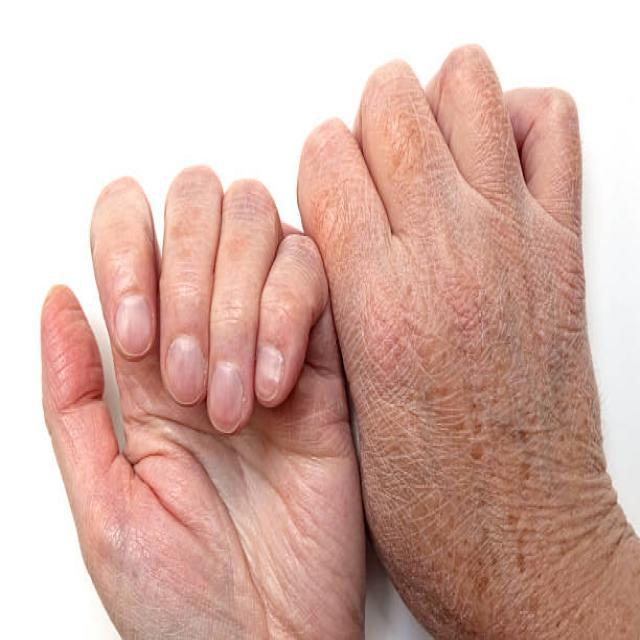dry: (478, 216, 580, 536), (350, 278, 473, 537)
